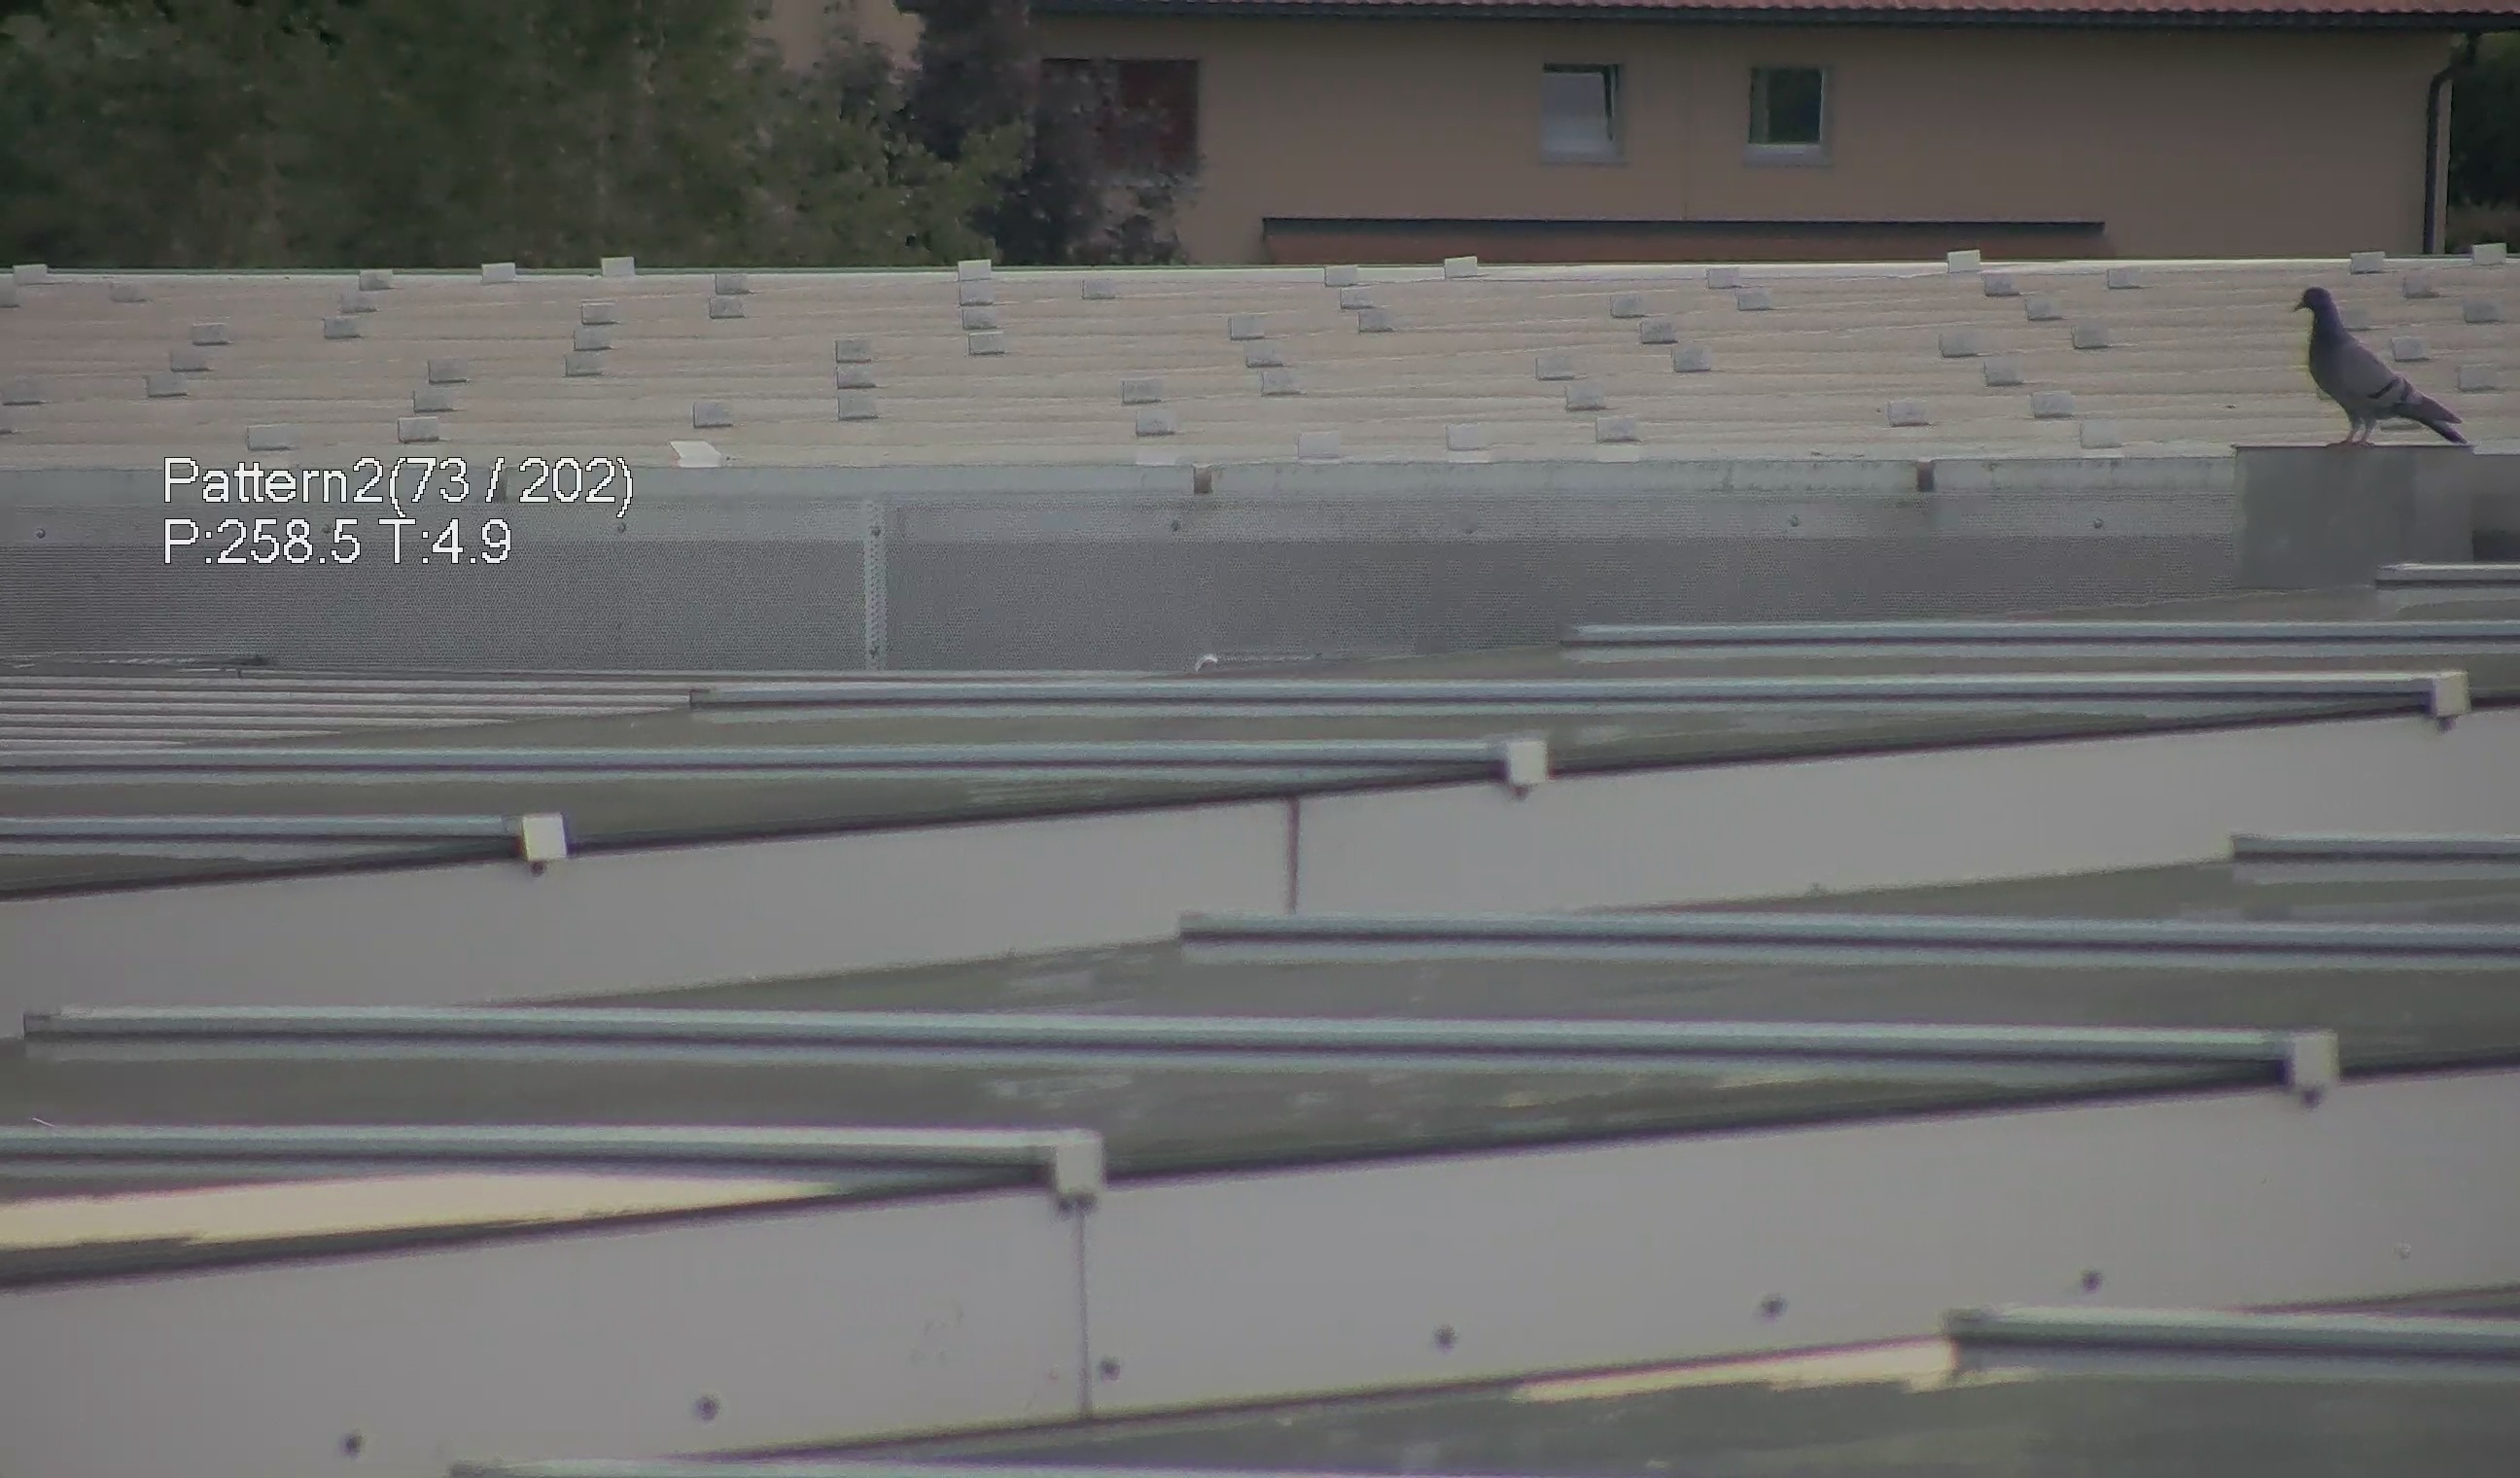Pigeon: (2288, 269, 2485, 461)
